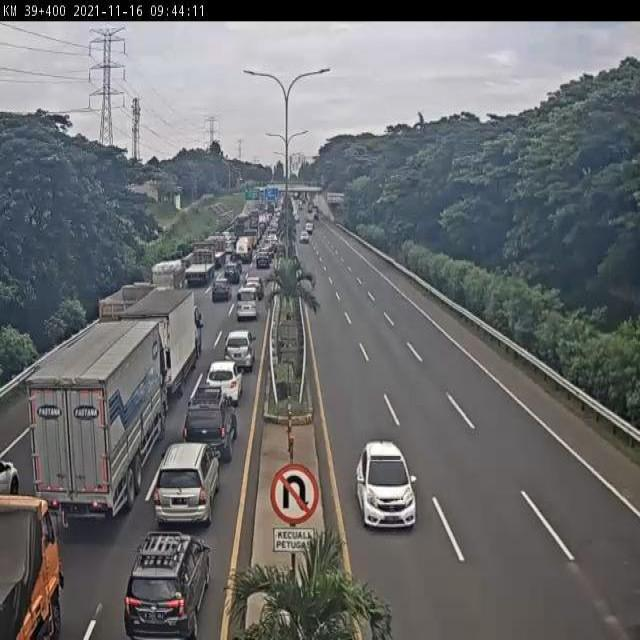car: (123, 525, 211, 640), (353, 432, 436, 531), (152, 441, 227, 536), (183, 387, 239, 461), (203, 357, 244, 408), (221, 326, 253, 374), (0, 445, 22, 496), (238, 286, 262, 326), (213, 274, 231, 314)
truck-l-: (27, 321, 170, 519), (185, 243, 217, 288)
truck-m-: (0, 489, 65, 640), (123, 287, 204, 392)
